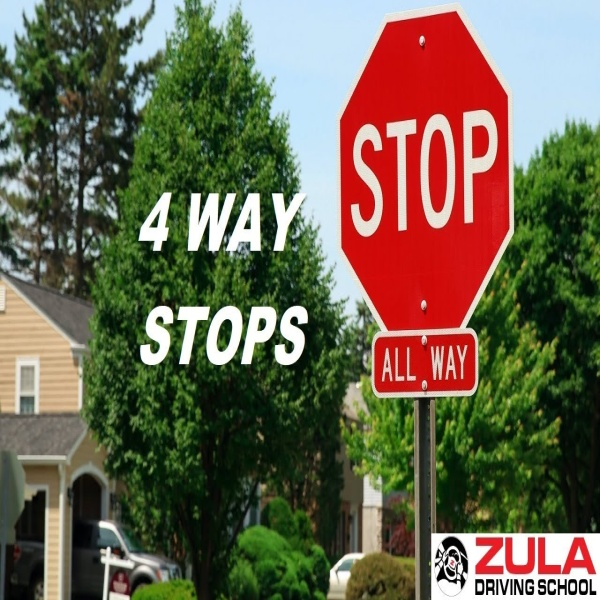stop: (344, 15, 515, 396)
